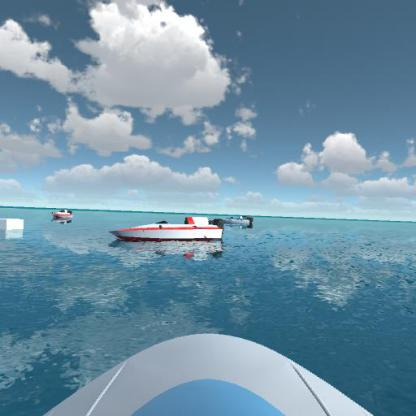usv1: (216, 211, 257, 230)
usv3: (110, 212, 226, 250), (48, 204, 77, 223)
